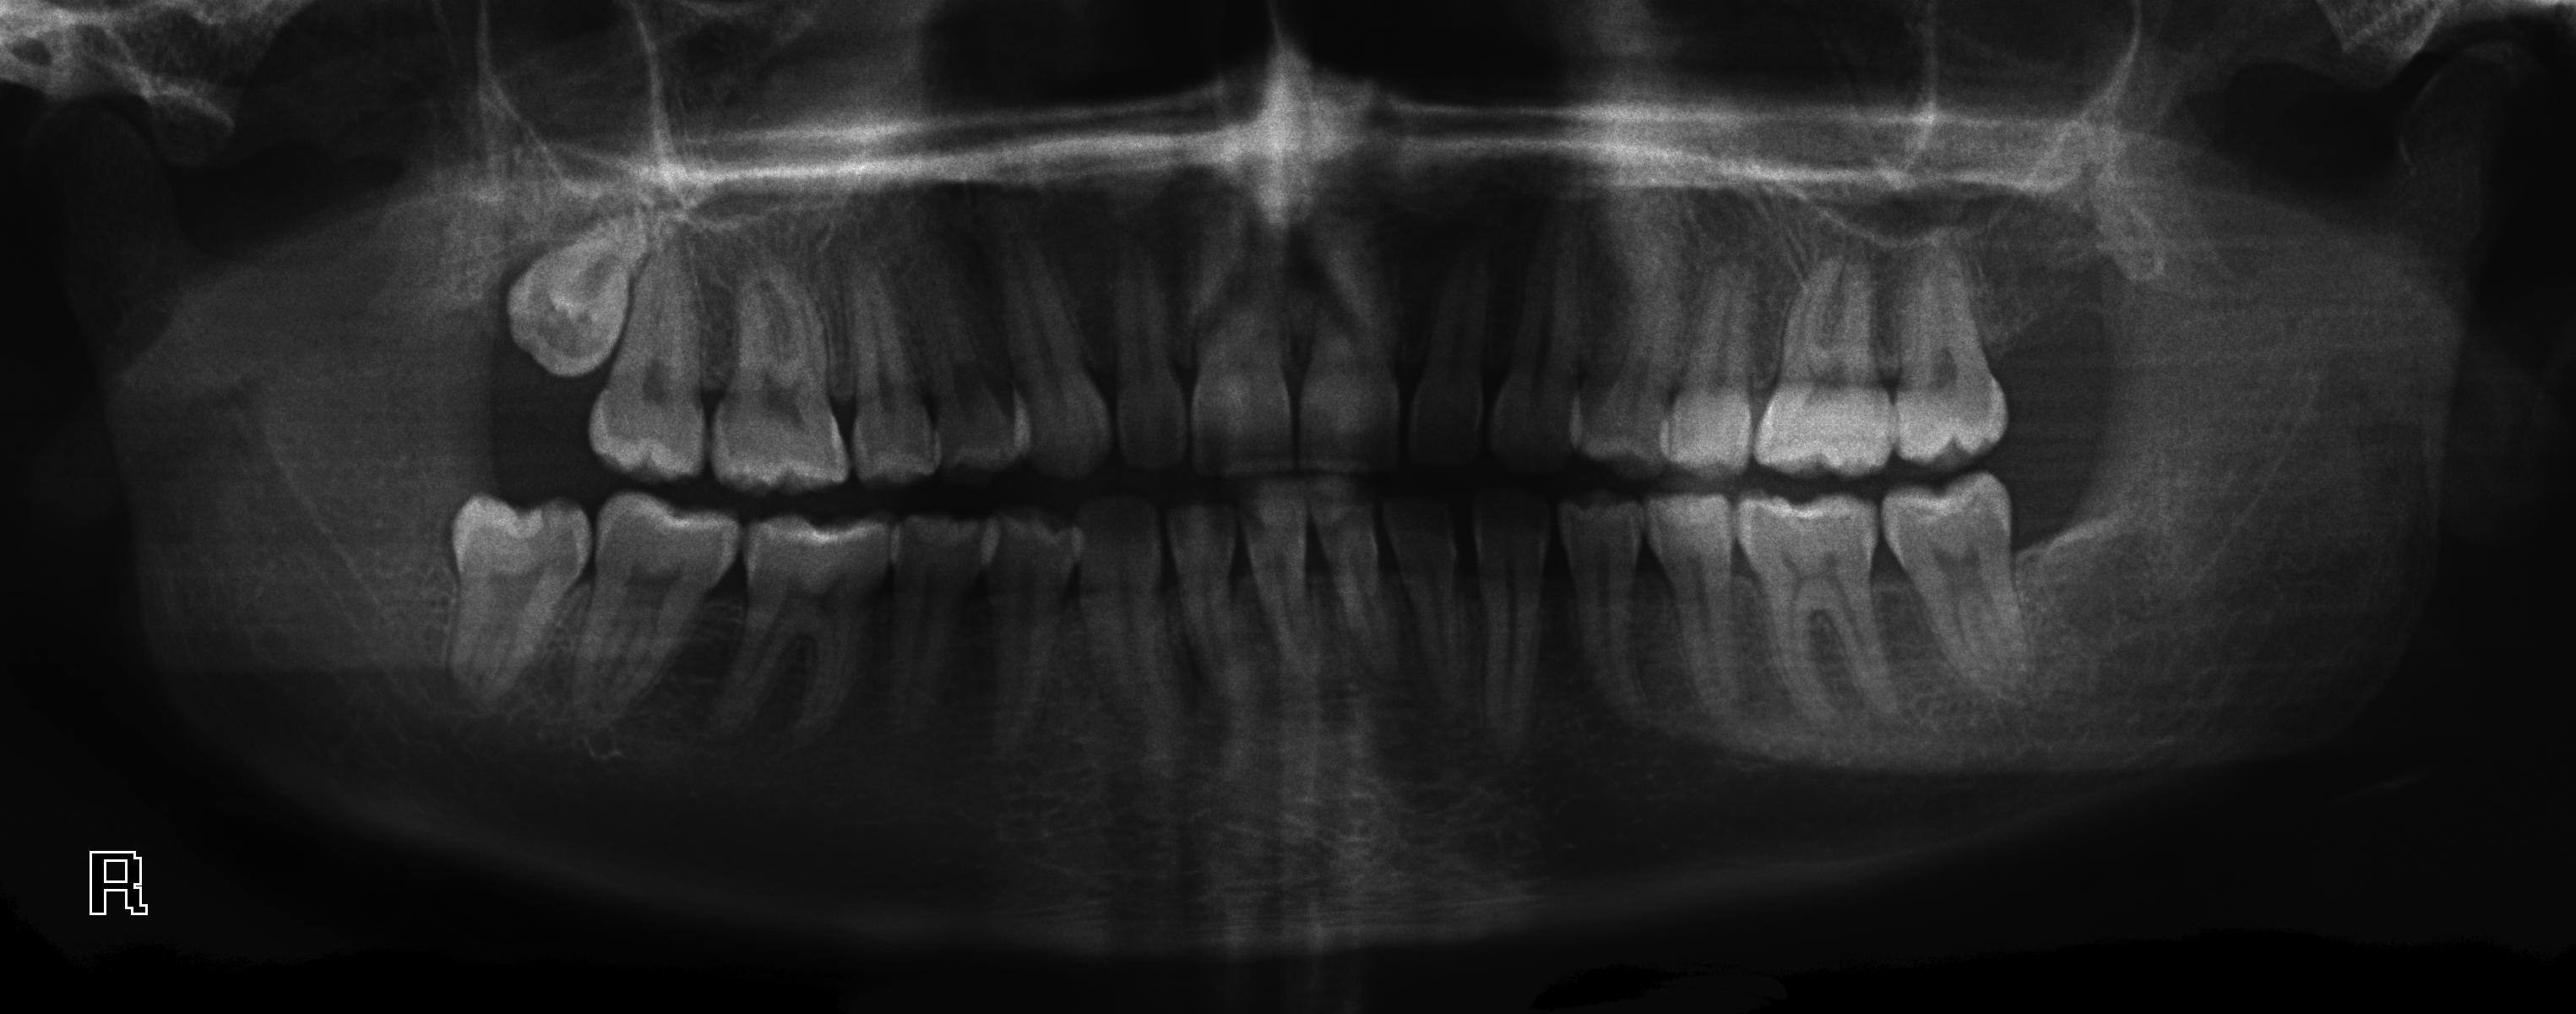Çürük: (444, 496, 550, 577)
